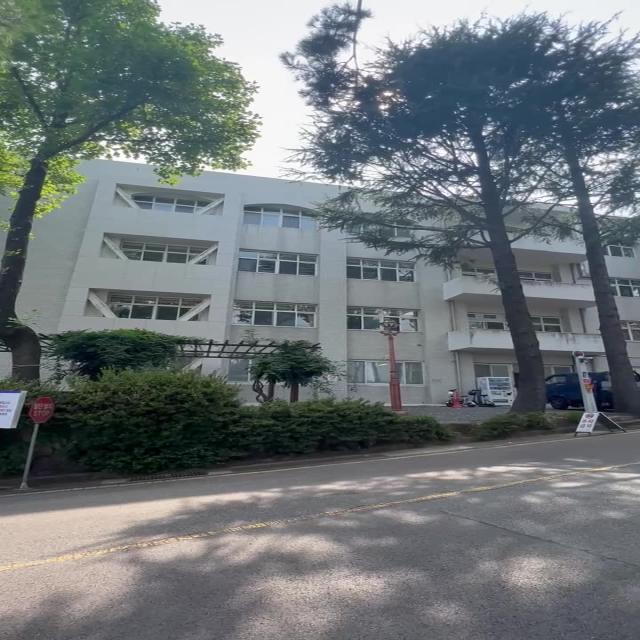building: (154, 229, 640, 413)
